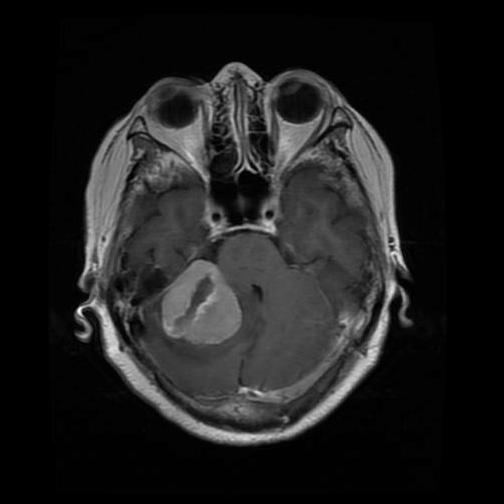Tumour-Meningioma: (144, 250, 269, 373)
